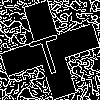T: (25, 25, 68, 78)
